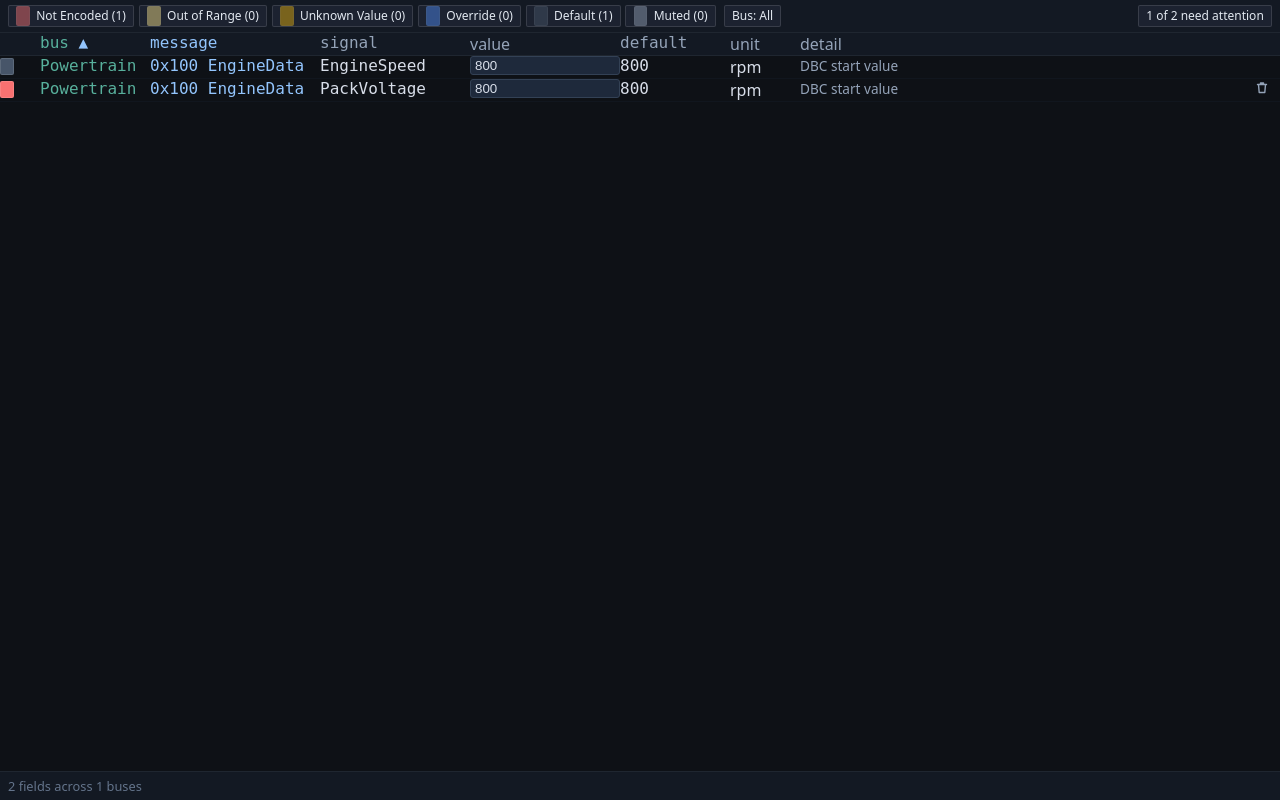
Test: RbsSignalsPanel › the footer shortcut toggles the problem-status filter
This screenshot has width=1280, height=800.
Expected: the text "EngineSpeed" is shown, x1=320 y1=56 x2=426 y2=75
Step 1. Click the button "1 of 2 need attention" → (1205, 16), box x1=1138 y1=5 x2=1272 y2=27
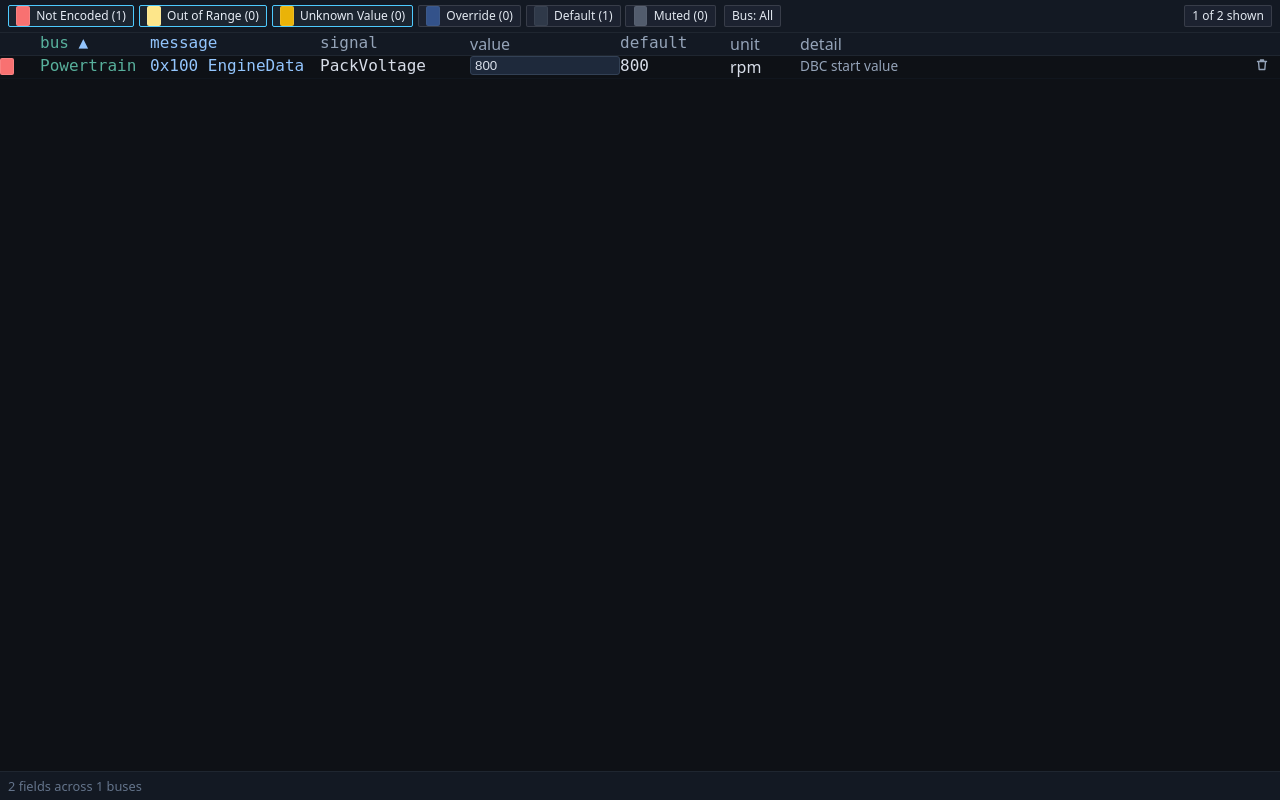
Expected: the text "PackVoltage" is shown, x1=320 y1=56 x2=426 y2=75
Result: the text "EngineSpeed" is gone
